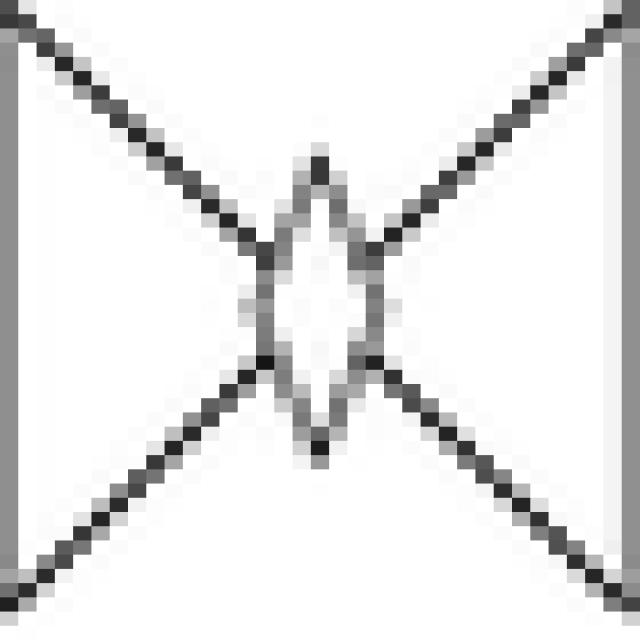Plug Valve: (2, 7, 637, 616)
